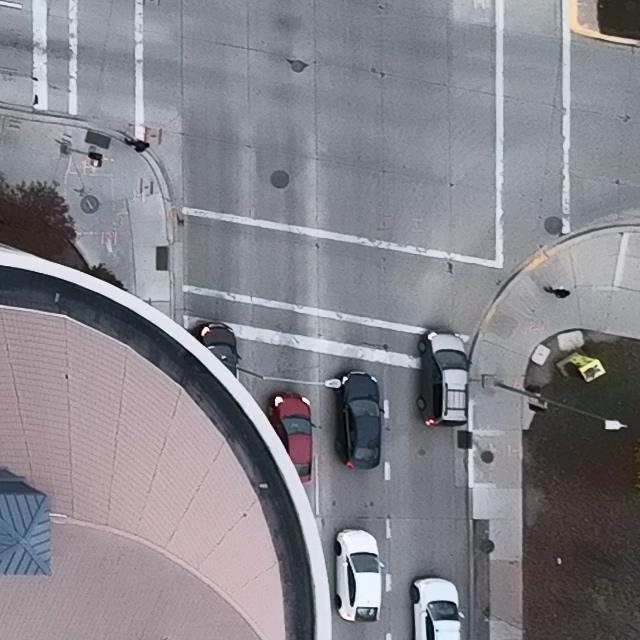car: (334, 370, 386, 471), (418, 331, 472, 427), (267, 390, 317, 483), (409, 576, 465, 640), (197, 322, 242, 379)
